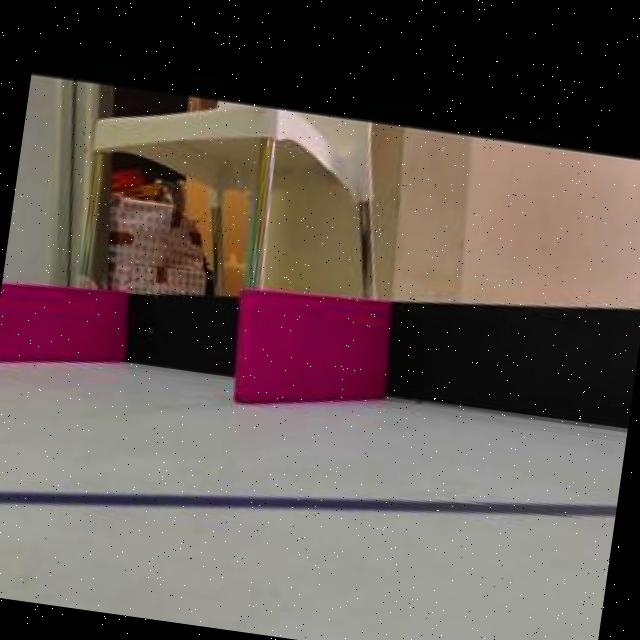xparking: (234, 292, 386, 408), (0, 281, 121, 362)
